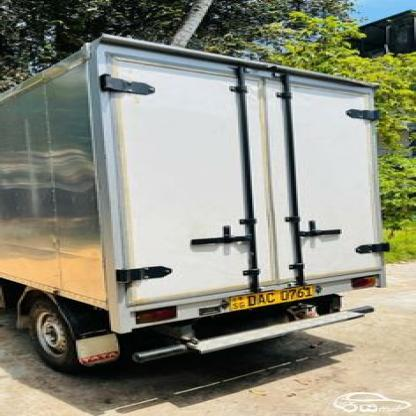Lorry back: (0, 29, 416, 384)
number plate: (228, 283, 321, 307)
